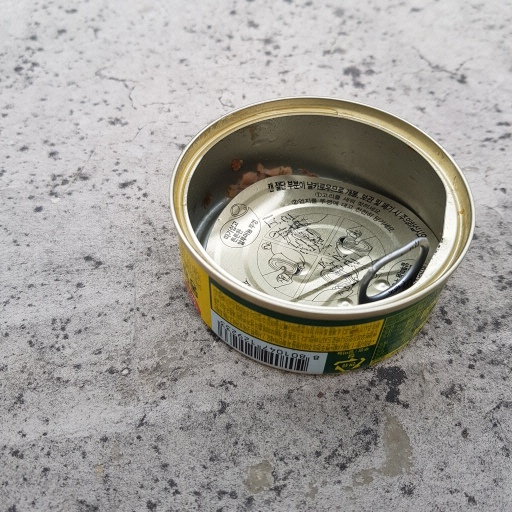Metal_1: (169, 96, 477, 379)
